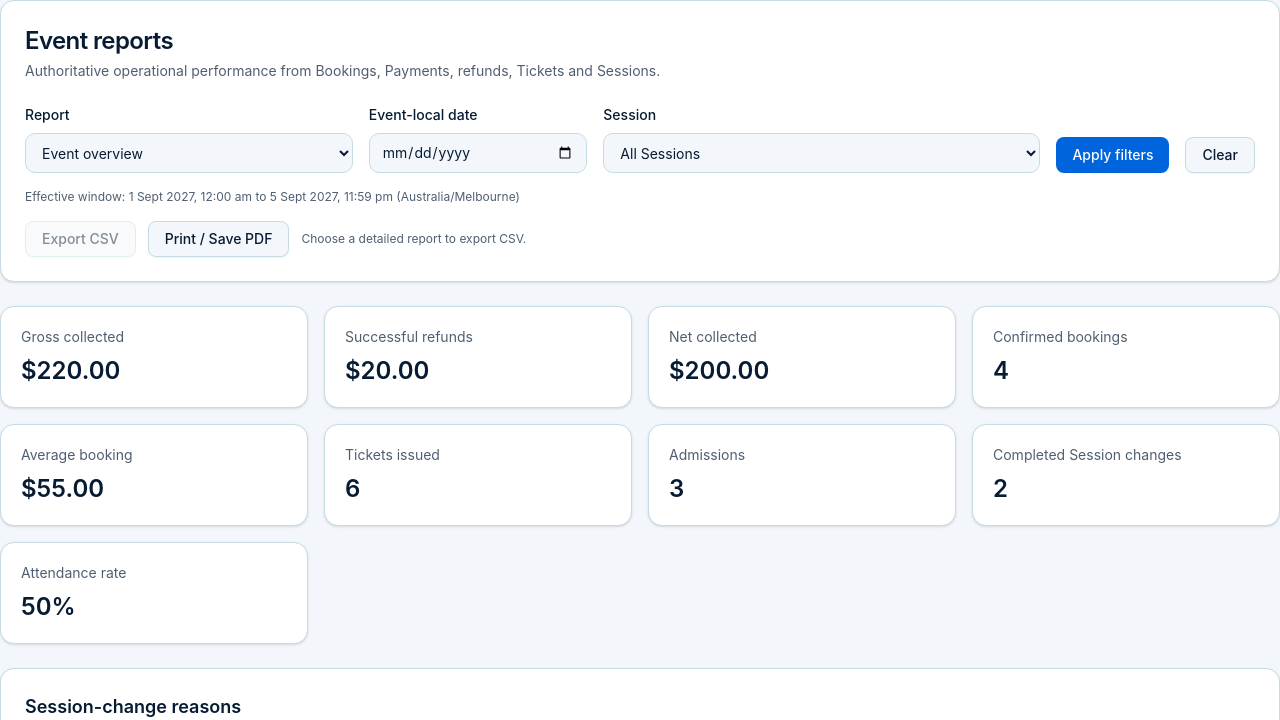
Test case: EventReportsWorkspace › shows Ticket Type sales and applies the shared filters
This screenshot has width=1280, height=720.
Expected: the text "$200.00" is shown, [669,356,769,385]
Type "2027-09-01" into the date field labelled "Event-local date" at {"x": 478, "y": 153}, box [369,133,587,173]
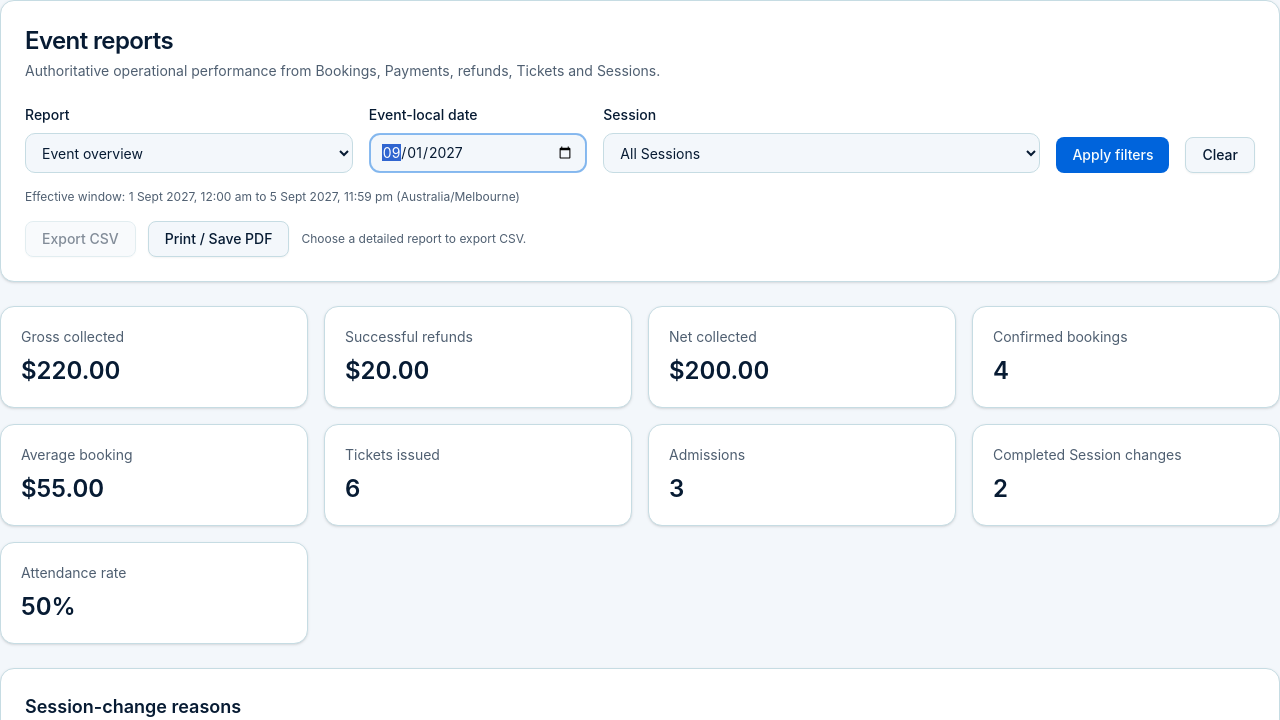
Select "Morning skate — 1 Sept 2027, 10:30 am" in the dropdown labelled "Session" at {"x": 822, "y": 153}, box [603,133,1040,173]
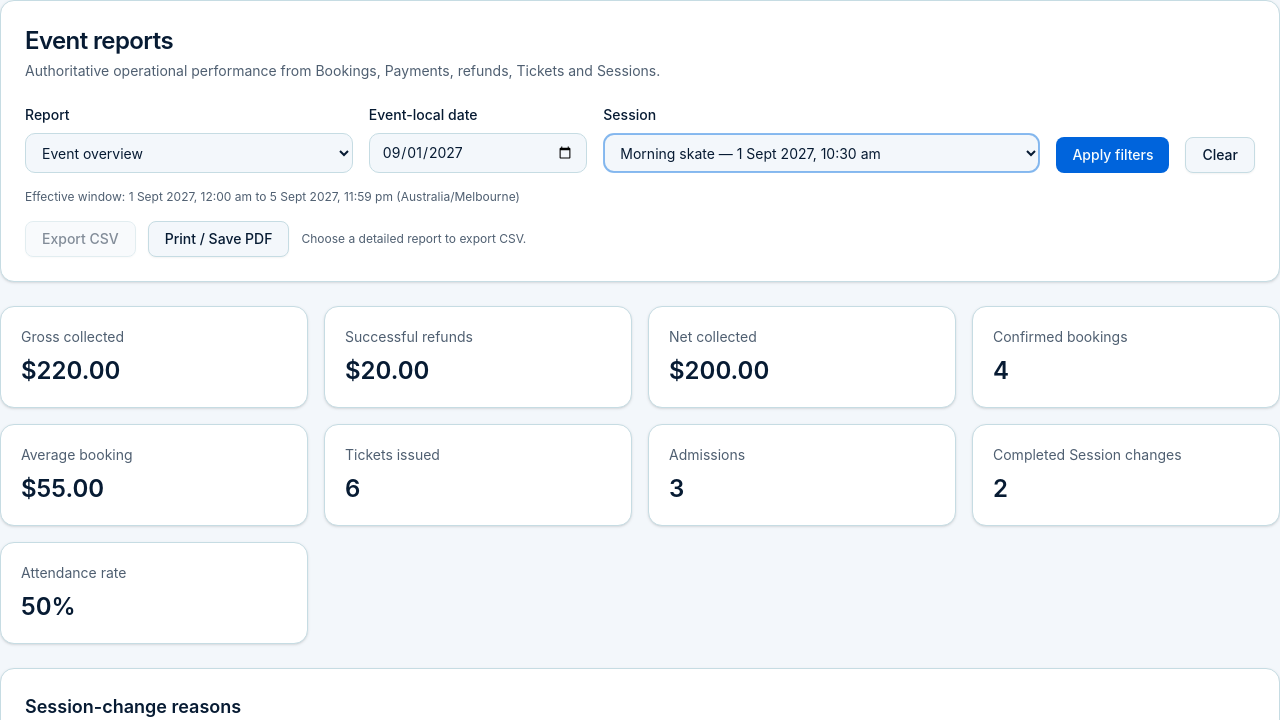
Select "Sales by Ticket Type" in the dropdown labelled "Report" at {"x": 189, "y": 153}, box [25,133,353,173]
(page scrolled)
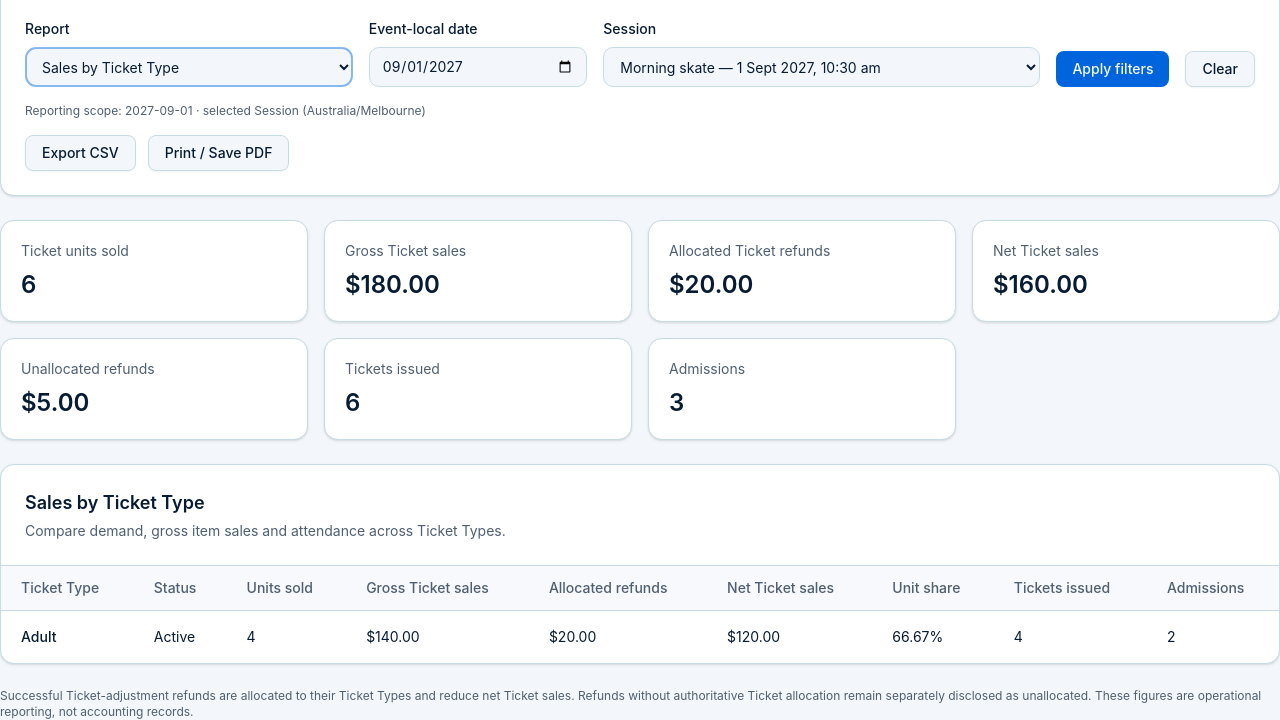
Result: the heading "Sales by Ticket Type" is shown at [25,492,204,513]
Result: the text "Adult" is shown at [1,610,134,663]
Result: the text "allocated to their Ticket Types and reduce net Ticket sales" is shown at [0,688,1261,719]
